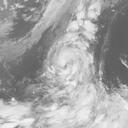cyclone: (47, 41, 90, 78)
